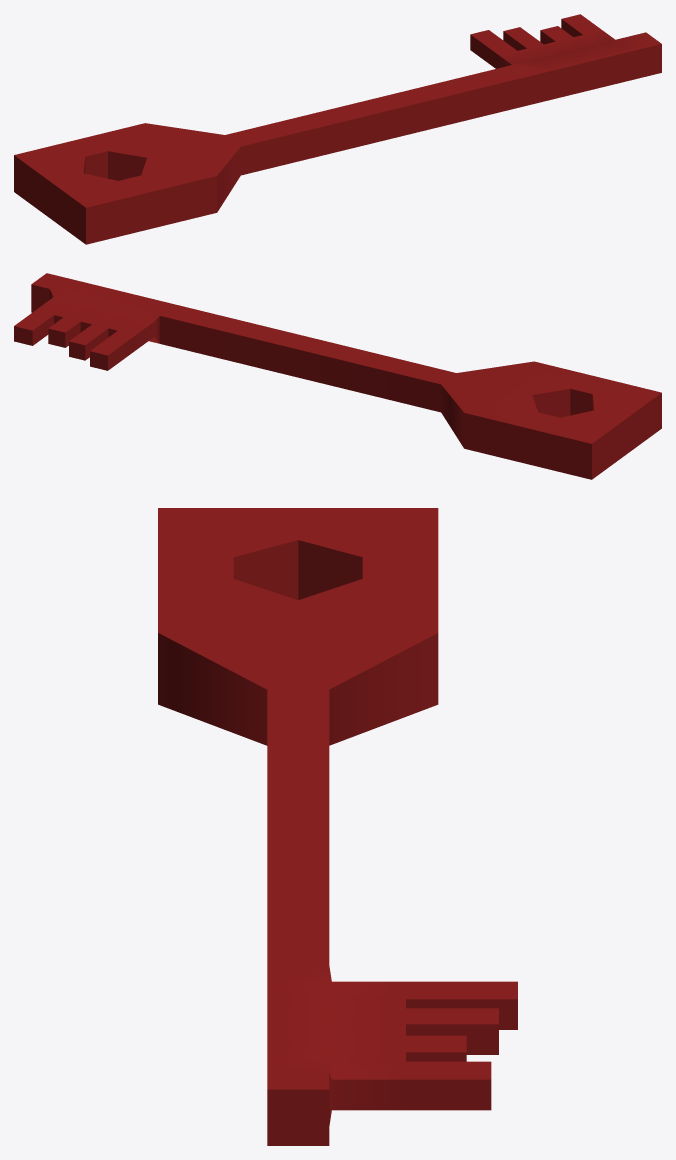
File: RedKey.fbx
The picture shows the model from 3 angles, top to bottom: view 1: azimuth 30°, elevation 25°; view 2: azimuth 150°, elevation 25°; view 3: azimuth 270°, elevation 25°; orthographic projection. The views are drawn at different scales.
Parts seen in each view (by area): view 1: Key1; view 2: Key1; view 3: Key1.
Boxes of the visible parts, x1,y1,x2,y2 form: Key1: (14,14,661,244); Key1: (14,273,661,479); Key1: (158,508,517,1145).
Bounding box in the file's own units: 1.44 × 0.0842 × 0.3823.
